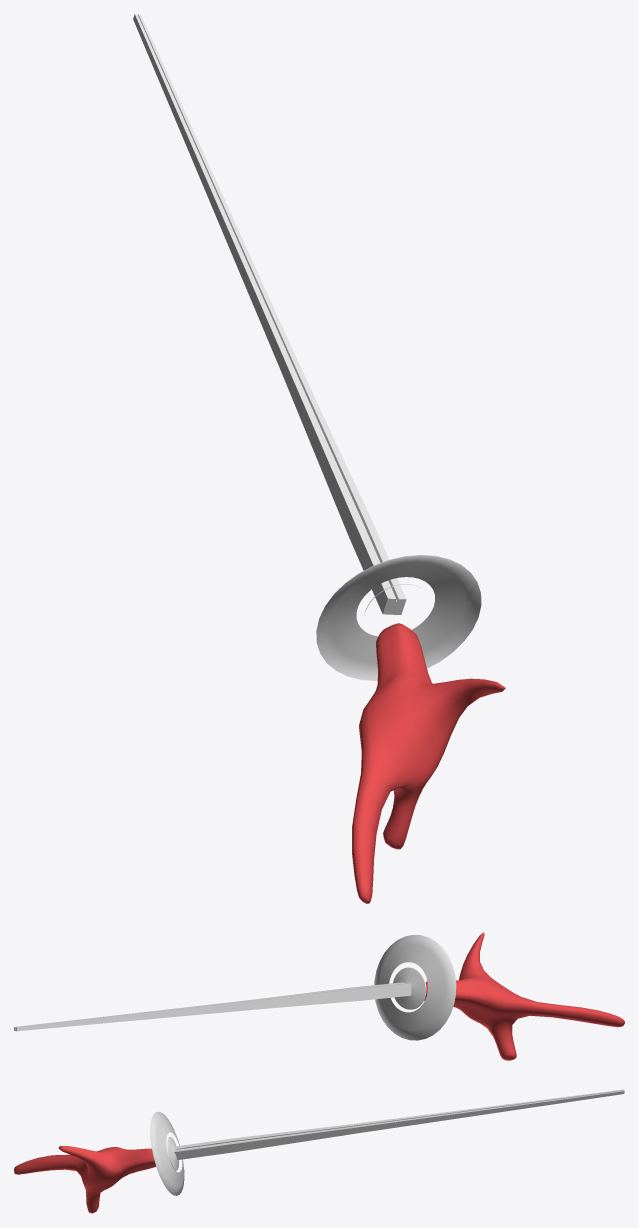
Rendered from asset.glb.
3 views of the same model, one above another, from view 1: azimuth 30°, elevation 25°; view 2: azimuth 150°, elevation 25°; view 3: azimuth 270°, elevation 25° (orthographic). The views are drawn at different scales.
Visible parts, largest first — view 1: Plane, Circle; view 2: Plane, Circle; view 3: Plane, Circle.
Part boxes in pixels (x1,y1,x2,y2): Plane: [316, 555, 505, 903]; Circle: [133, 14, 420, 615]; Plane: [374, 932, 624, 1060]; Circle: [14, 967, 426, 1031]; Plane: [14, 1111, 184, 1213]; Circle: [167, 1089, 624, 1170].
Size of the model in its own units: 6.03 by 5.62 by 16.42.
